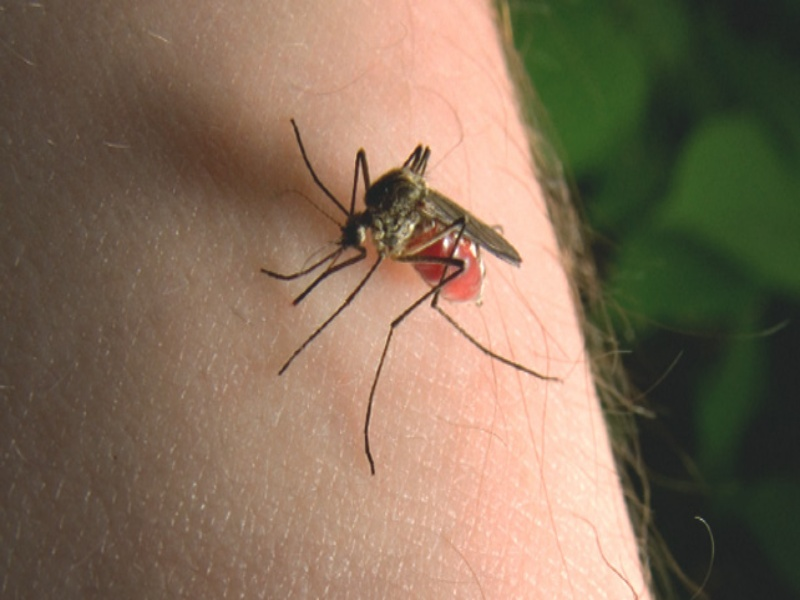dengue_mosquito: (279, 141, 500, 361)
